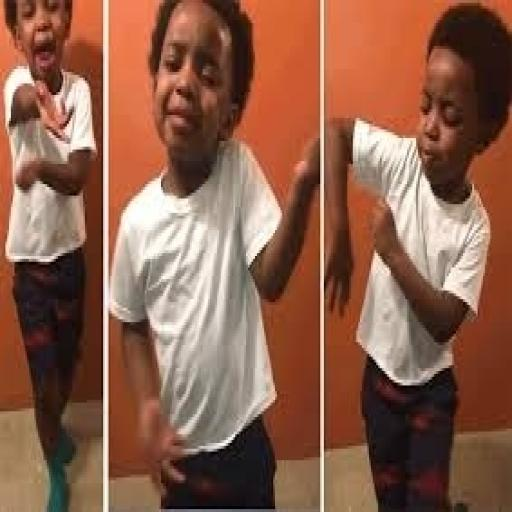dancing: (109, 0, 320, 509), (322, 0, 510, 509), (2, 0, 99, 509)
